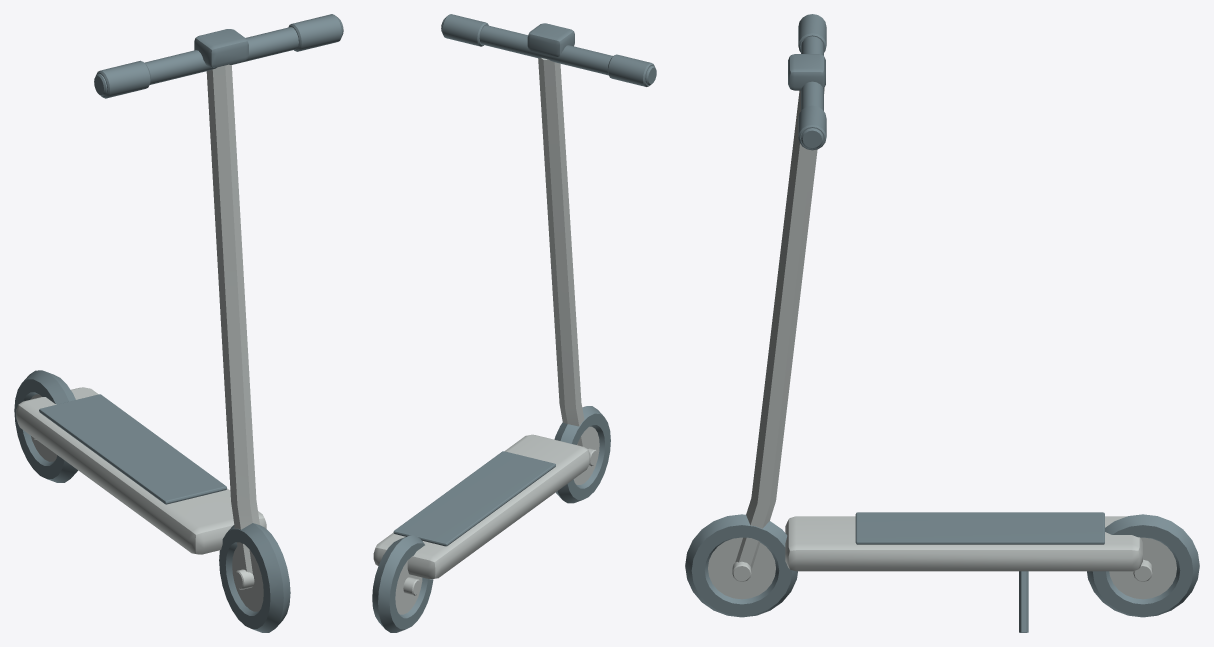
File: e-scooter.glb
The picture shows the model from 3 angles, left to right: view 1: azimuth 30°, elevation 25°; view 2: azimuth 150°, elevation 25°; view 3: azimuth 270°, elevation 25°; orthographic projection. The views are drawn at different scales.
Parts seen in each view (by area): view 1: stem, deck, grip_deck, wheel_tire.001, crossbar, wheel_tire, dashboard, rubber_grip.001, rubber_grip, wheel_wheel_face.001; view 2: stem, deck, grip_deck, wheel_tire, crossbar, wheel_tire.001, dashboard, rubber_grip, rubber_grip.001, wheel_wheel_face, wheel_wheel_face.001; view 3: deck, stem, grip_deck, wheel_tire.001, wheel_tire, wheel_wheel_face.001, wheel_wheel_face, crossbar, dashboard, rubber_grip.001, rubber_grip.
Part boxes in pixels (x1,y1,x2,y2): stem: (206,64,259,573); deck: (16,387,266,554); grip_deck: (39,394,226,504); wheel_tire.001: (219,523,290,632); crossbar: (94,17,343,96); wheel_tire: (14,370,77,482); dashboard: (194,29,248,67); rubber_grip.001: (288,14,342,51); rubber_grip: (96,60,150,98); wheel_wheel_face.001: (232,547,263,611); stem: (538,57,589,448); deck: (373,434,590,579); grip_deck: (393,451,555,546); wheel_tire: (372,535,433,632); crossbar: (441,16,656,85); wheel_tire.001: (554,406,610,503); dashboard: (527,23,574,56); rubber_grip: (607,54,654,86); rubber_grip.001: (442,14,488,46); wheel_wheel_face: (395,560,422,614); wheel_wheel_face.001: (573,426,599,484); deck: (785,516,1142,571); stem: (735,88,824,568); grip_deck: (855,512,1104,544); wheel_tire.001: (685,514,797,617); wheel_tire: (1087,514,1199,617); wheel_wheel_face.001: (708,537,775,599); wheel_wheel_face: (1109,537,1176,599); crossbar: (801,36,823,148); dashboard: (788,54,825,90); rubber_grip.001: (798,105,826,150); rubber_grip: (798,14,826,52).
Bounding box in the file's own units: 0.5 × 1.13 × 0.95.
